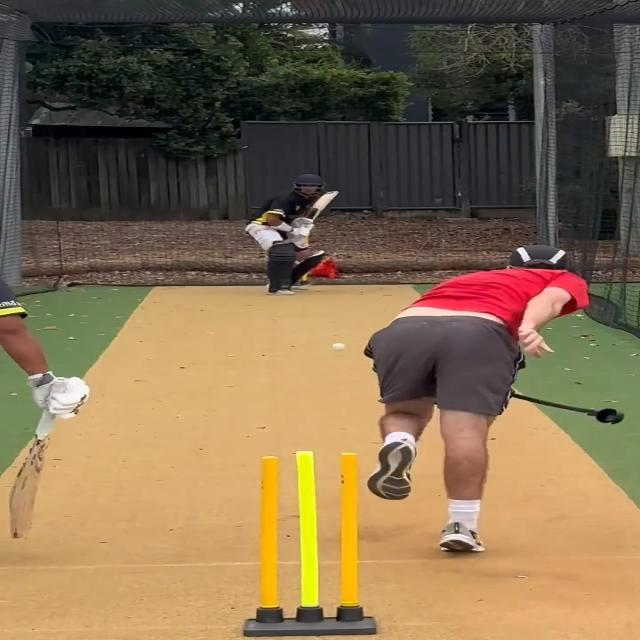ball: (331, 342, 348, 352)
stump: (242, 448, 374, 640)
